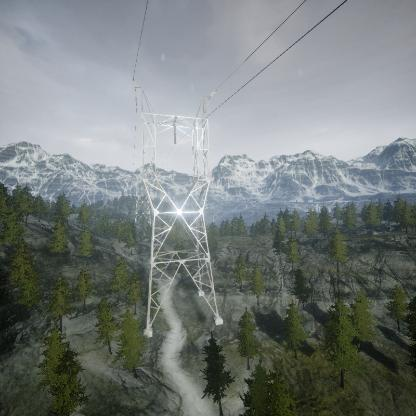tower: (131, 80, 225, 339)
